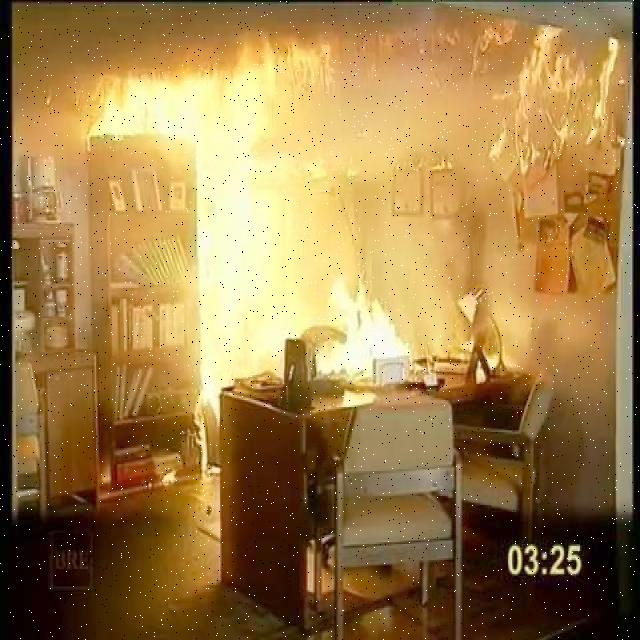fire: (94, 70, 415, 388), (498, 32, 612, 158)
